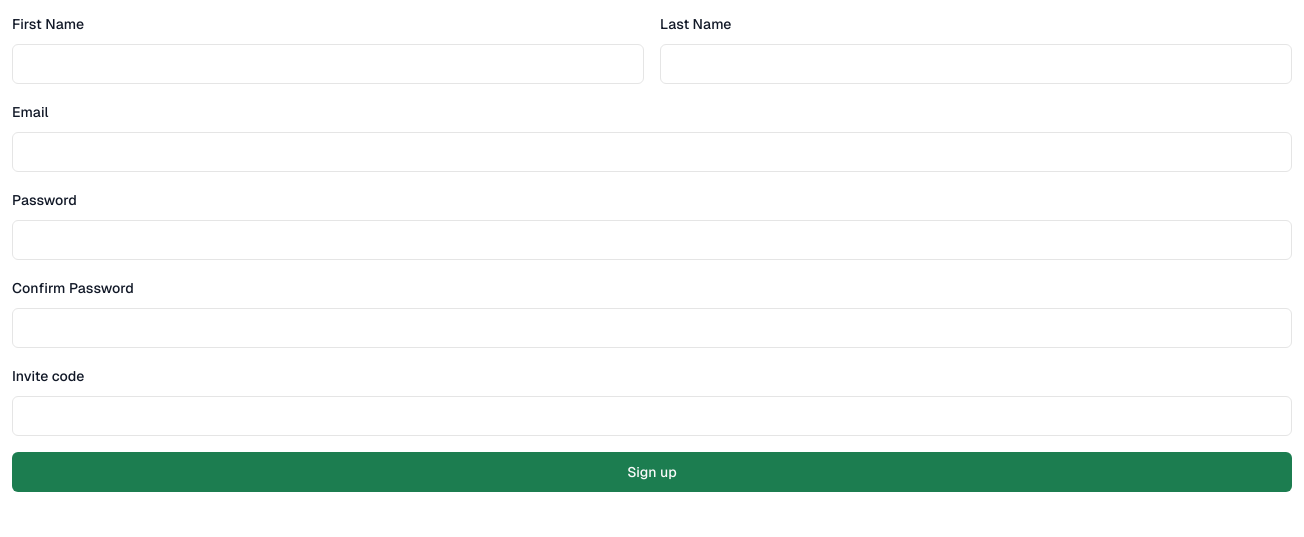
Test: SignupForm › shows validation error when passwords don't match
The width and height of the screenshot is (1304, 537).
// Fill in all fields but with mismatched passwords
Type "John" into the field labelled "First Name".
click(328, 64); type("John")  # box [12,44,644,84]
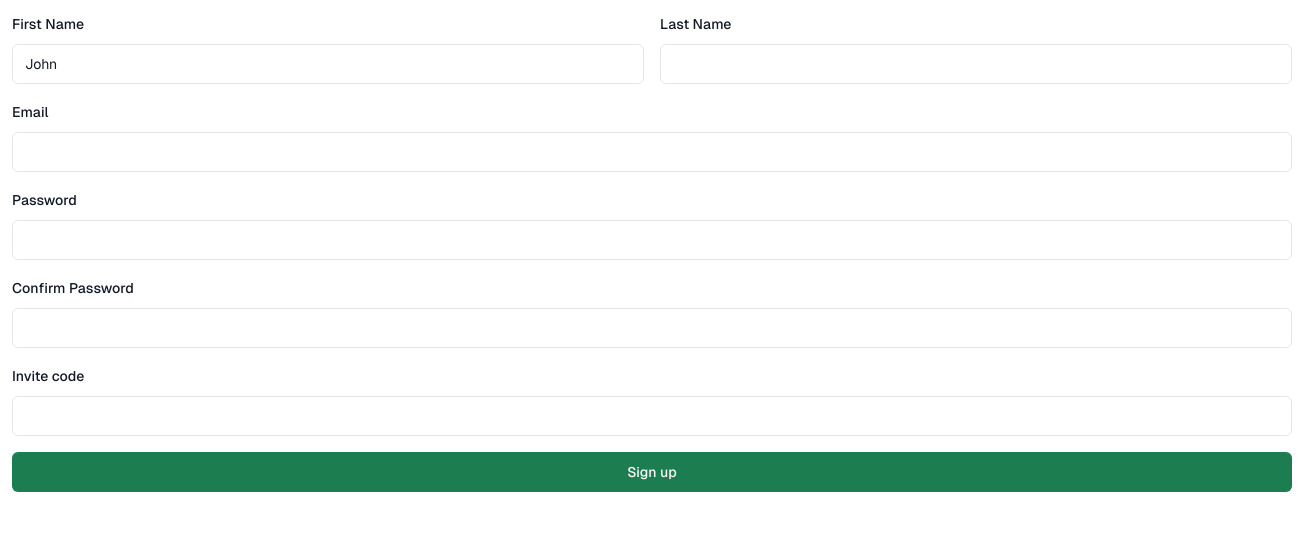
Type "Doe" into the field labelled "Last Name".
click(976, 64); type("Doe")  # box [660,44,1292,84]
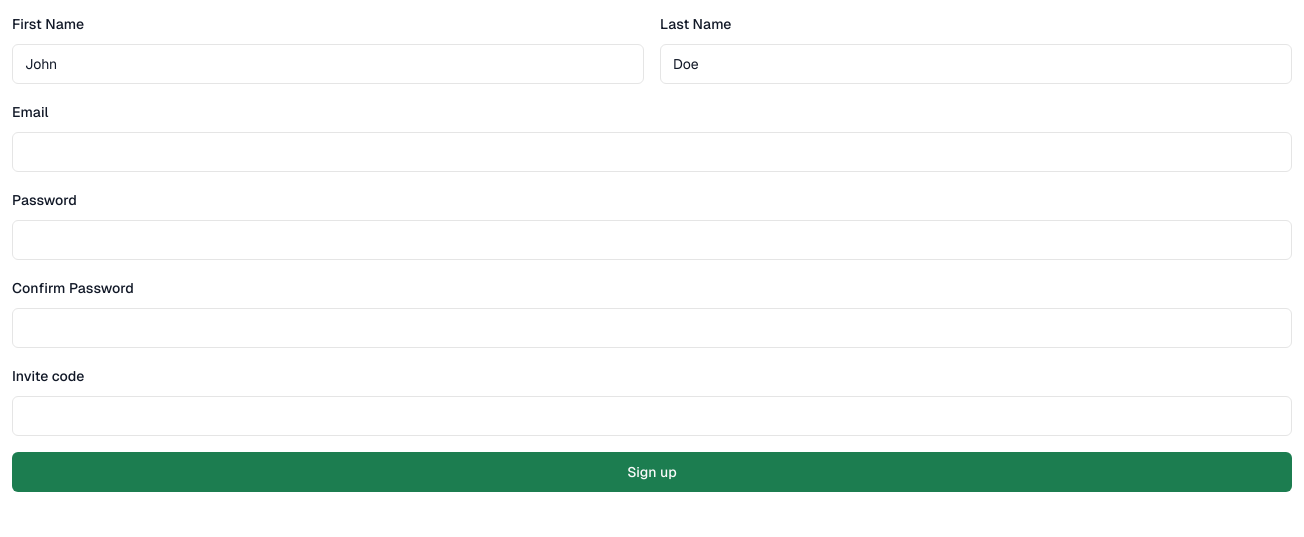
Type "john.doe@example.com" into the field labelled "Email".
click(652, 152); type("john.doe@example.com")  # box [12,132,1292,172]
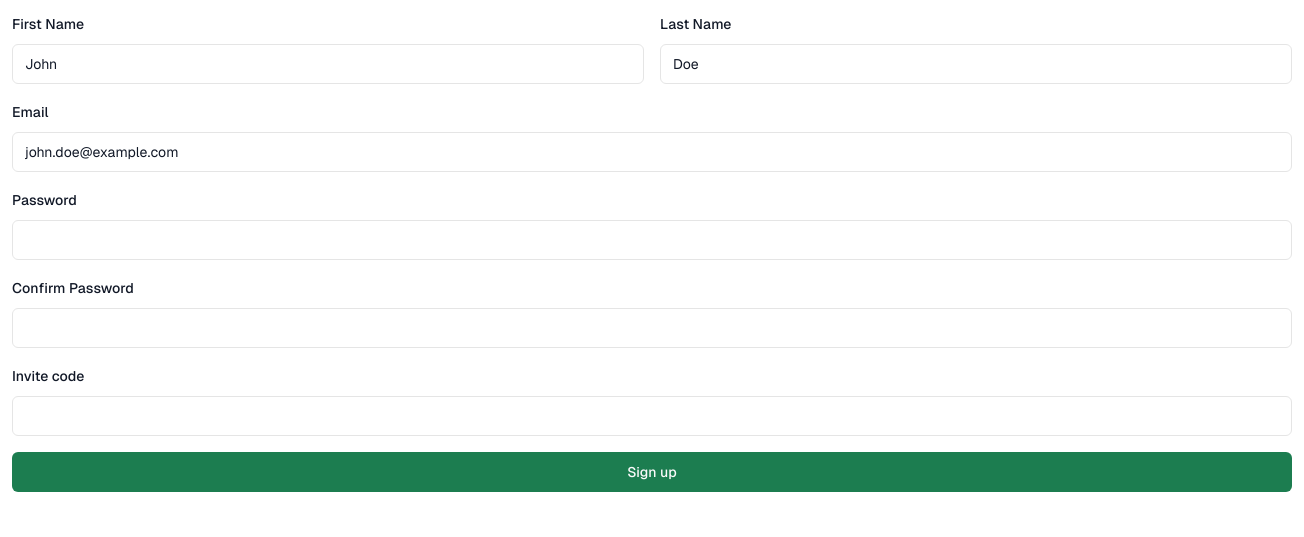
Type "Password123" into the password field labelled "Password".
click(652, 240); type("Password123")  # box [12,220,1292,260]
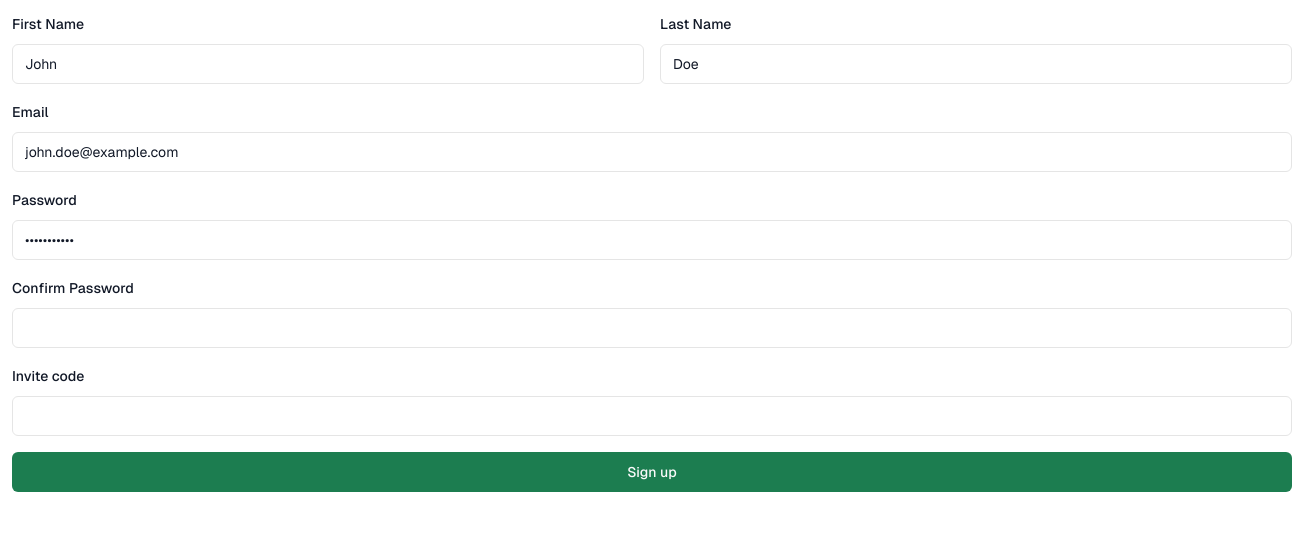
Type "DifferentPassword" into the password field labelled "Confirm Password".
click(652, 328); type("DifferentPassword")  # box [12,308,1292,348]
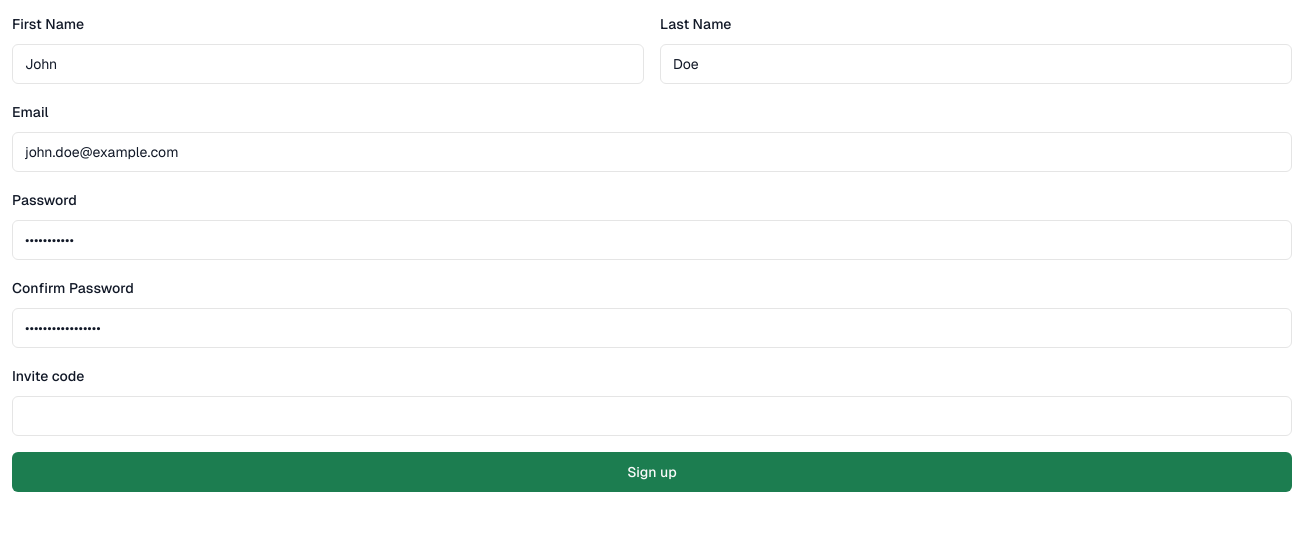
// Submit the form
Click the button "Sign up".
click(652, 472)  # box [12,452,1292,492]
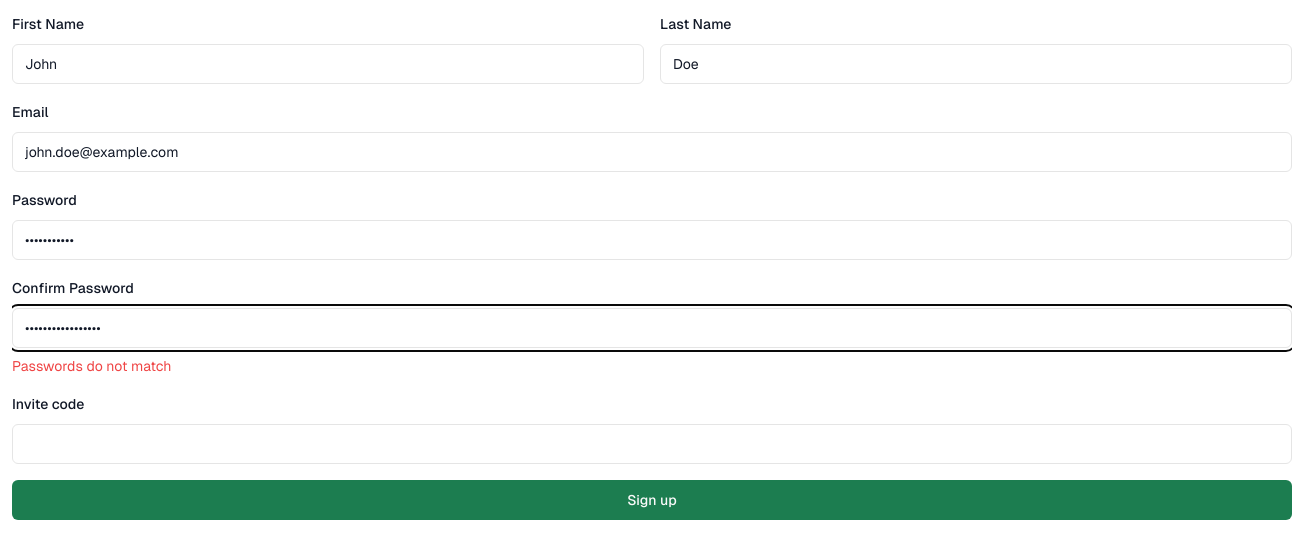
Now the text with test id "confirmPassword-error" reads "Passwords do not match", box [12,357,171,375]
